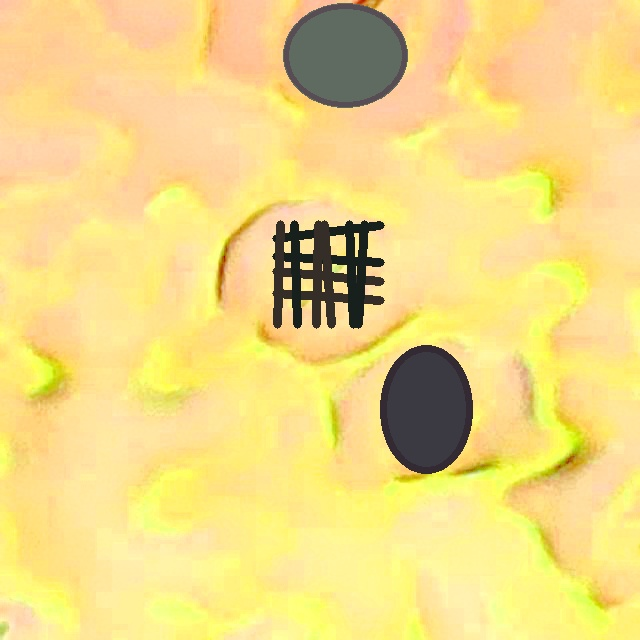close: (273, 221, 383, 327), (380, 345, 471, 473)
open: (283, 3, 407, 108)
